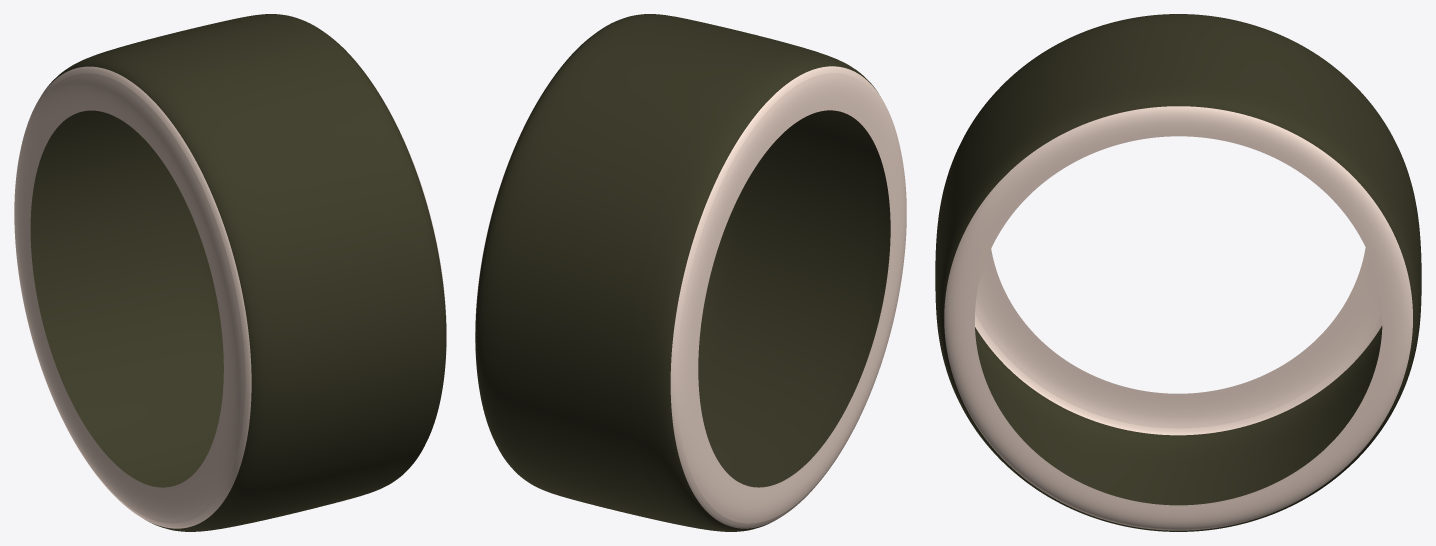
File: rubber_drag.fbx
The picture shows the model from 3 angles, left to right: view 1: azimuth 30°, elevation 25°; view 2: azimuth 150°, elevation 25°; view 3: azimuth 270°, elevation 25°; orthographic projection.
Visible parts, largest first — view 1: rubber_drag; view 2: rubber_drag; view 3: rubber_drag.
Boxes of the visible parts, x1=… form: rubber_drag: x1=14, y1=14, x2=446, y2=531; rubber_drag: x1=475, y1=14, x2=906, y2=531; rubber_drag: x1=935, y1=14, x2=1421, y2=531.
Size of the model in its own units: 1391 by 2902 by 2902.
